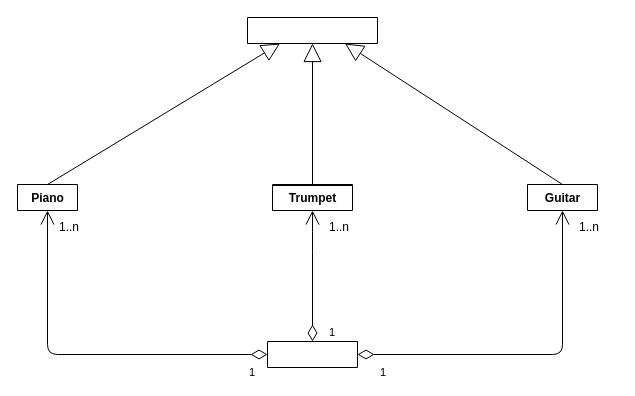
Image size: 635x396. Some labels were removed from this diagram. Here are the shapes that lost their labels. From the top down, the box of each, then its label:
(246, 16, 378, 44): MusicalInstrument
(266, 340, 358, 368): MusicShop
